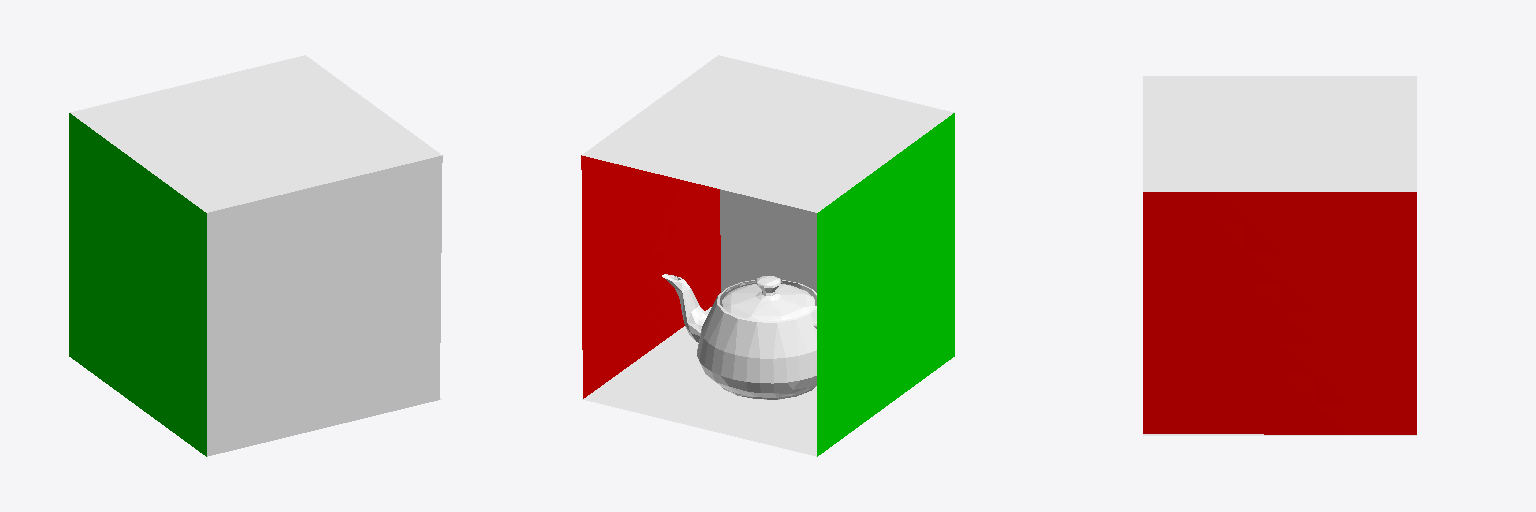
File: cornell_and_teapot.obj
3 renders of one model, left to right at view 1: azimuth 30°, elevation 25°; view 2: azimuth 150°, elevation 25°; view 3: azimuth 270°, elevation 25°, orthographic.
Visible parts, largest first — view 1: back_wall, green_wall, ceiling; view 2: green_wall, ceiling, red_wall, teapot, floor_ceiling.001, back_wall; view 3: red_wall, ceiling.
Boxes of the visible parts, x1=… form: back_wall: x1=207, y1=155, x2=442, y2=456; green_wall: x1=69, y1=113, x2=206, y2=456; ceiling: x1=70, y1=55, x2=441, y2=212; green_wall: x1=817, y1=113, x2=954, y2=456; ceiling: x1=582, y1=55, x2=953, y2=212; red_wall: x1=581, y1=155, x2=720, y2=398; teapot: x1=662, y1=274, x2=816, y2=399; floor_ceiling.001: x1=582, y1=307, x2=816, y2=456; back_wall: x1=720, y1=143, x2=912, y2=292; red_wall: x1=1143, y1=192, x2=1416, y2=434; ceiling: x1=1143, y1=76, x2=1416, y2=191.
Bounding box in the file's own units: 556 × 549 × 559.